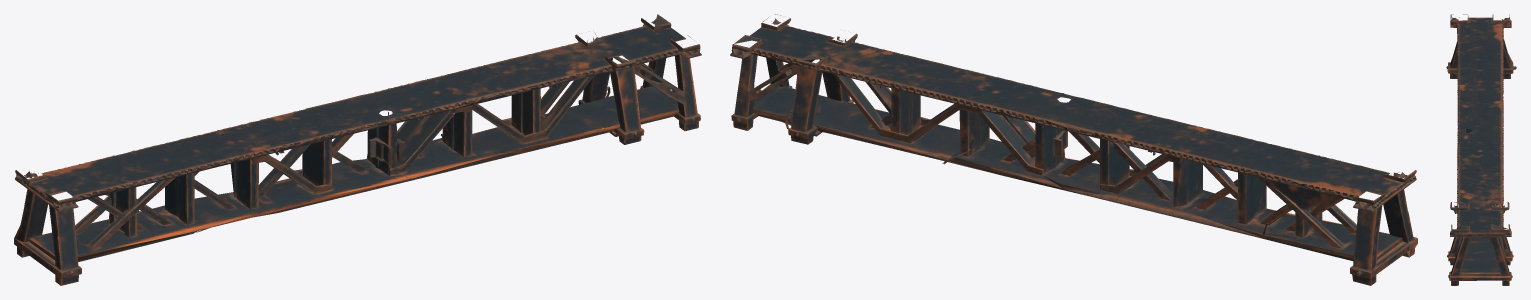
The model's file is fg_crane_girder.glb.
3 views of the same model, side by side, from view 1: azimuth 30°, elevation 25°; view 2: azimuth 150°, elevation 25°; view 3: azimuth 270°, elevation 25° (orthographic). The views are drawn at different scales.
Visible parts, largest first — view 1: main; view 2: main; view 3: main.
Part boxes in pixels (left/top/right/bottom): main: left=14, top=14, right=701, bottom=285; main: left=730, top=14, right=1417, bottom=285; main: left=1446, top=14, right=1516, bottom=285.
Size of the model in its own units: 6.35 by 0.8022 by 0.8711.
1 material, 1 textured.
